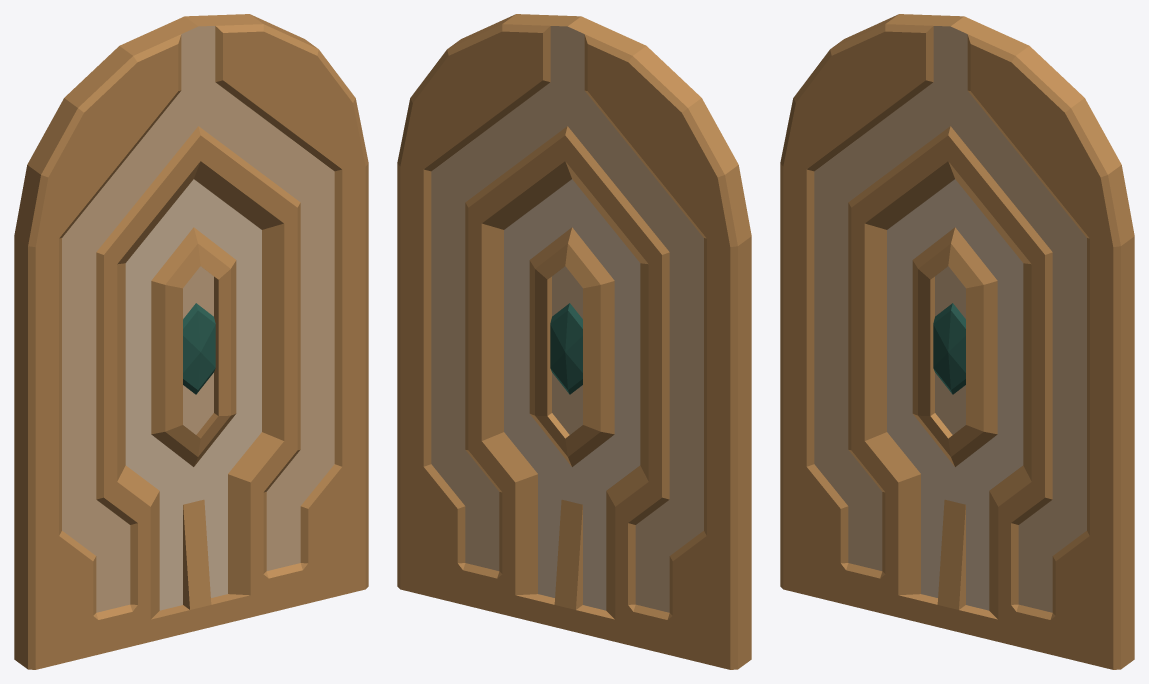
Rendered from Wall_Straight_Door_Large.fbx.
3 views of the same model, side by side, from view 1: azimuth 30°, elevation 25°; view 2: azimuth 150°, elevation 25°; view 3: azimuth 330°, elevation 25° (orthographic).
Visible parts, largest first — view 1: Sandstone_6.Sandstone_6.Sandstone_6.Sandstone_6.Sandstone_6., Sandstone_4.Sandstone_4.Sandstone_4.Sandstone_4, Sandstone_Trim.object2, object1; view 2: Sandstone_6.Sandstone_6.Sandstone_6.Sandstone_6.Sandstone_6., Sandstone_4.Sandstone_4.Sandstone_4.Sandstone_4, Sandstone_Trim.object2, object1; view 3: Sandstone_6.Sandstone_6.Sandstone_6.Sandstone_6.Sandstone_6., Sandstone_4.Sandstone_4.Sandstone_4.Sandstone_4, Sandstone_Trim.object2, object1.
Boxes of the visible parts, left/top/right/bottom form: Sandstone_6.Sandstone_6.Sandstone_6.Sandstone_6.Sandstone_6.: left=14, top=14, right=368, bottom=669; Sandstone_4.Sandstone_4.Sandstone_4.Sandstone_4: left=62, top=26, right=334, bottom=612; Sandstone_Trim.object2: left=125, top=179, right=261, bottom=610; object1: left=183, top=303, right=215, bottom=394; Sandstone_6.Sandstone_6.Sandstone_6.Sandstone_6.Sandstone_6.: left=397, top=14, right=751, bottom=669; Sandstone_4.Sandstone_4.Sandstone_4.Sandstone_4: left=431, top=26, right=703, bottom=612; Sandstone_Trim.object2: left=504, top=179, right=640, bottom=610; object1: left=550, top=303, right=582, bottom=394; Sandstone_6.Sandstone_6.Sandstone_6.Sandstone_6.Sandstone_6.: left=780, top=14, right=1134, bottom=669; Sandstone_4.Sandstone_4.Sandstone_4.Sandstone_4: left=814, top=26, right=1086, bottom=612; Sandstone_Trim.object2: left=887, top=179, right=1023, bottom=610; object1: left=933, top=303, right=965, bottom=394.
Size of the model in its own units: 1.6 by 2.7 by 0.15.
